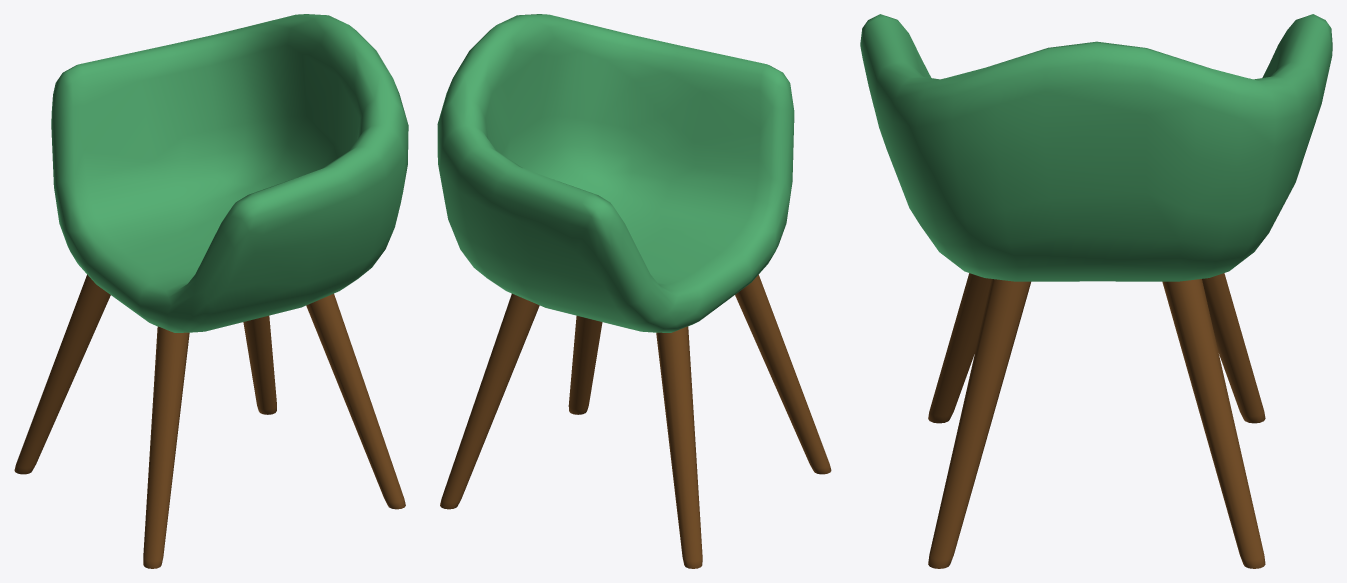
Rendered from chair_06_green.fbx.
3 renders of one model, left to right at view 1: azimuth 30°, elevation 25°; view 2: azimuth 150°, elevation 25°; view 3: azimuth 270°, elevation 25°, orthographic. The views are drawn at different scales.
Visible parts, largest first — view 1: chair_06_green; view 2: chair_06_green; view 3: chair_06_green.
Part boxes in pixels (x1,y1,x2,y2): chair_06_green: (14,14,408,568); chair_06_green: (437,14,831,568); chair_06_green: (860,14,1332,568).
Bounding box in the file's own units: 55.35 × 80.79 × 65.62.
Materials: 1 (1 with a texture image).
